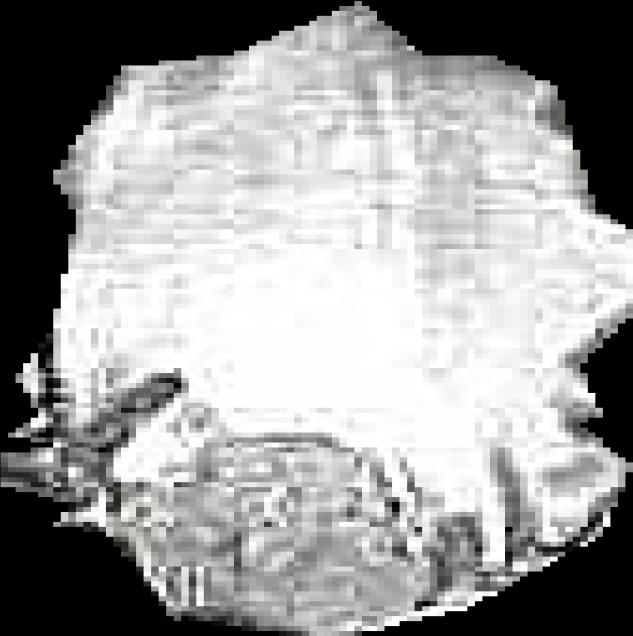tumor_less_chance: (1, 1, 633, 636)
